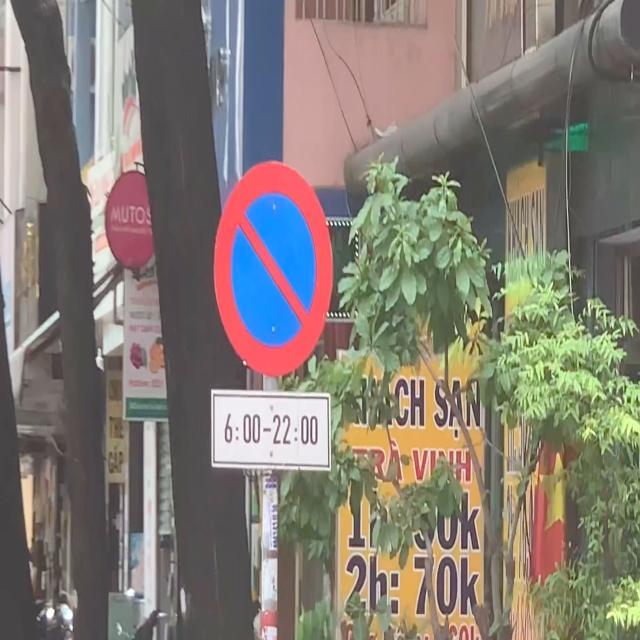Cam do: (214, 158, 334, 374)
